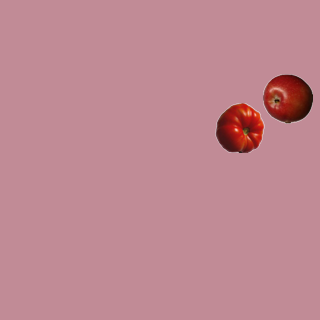Apple Braeburn: (262, 73, 312, 123)
Tomato 3: (214, 102, 264, 152)
